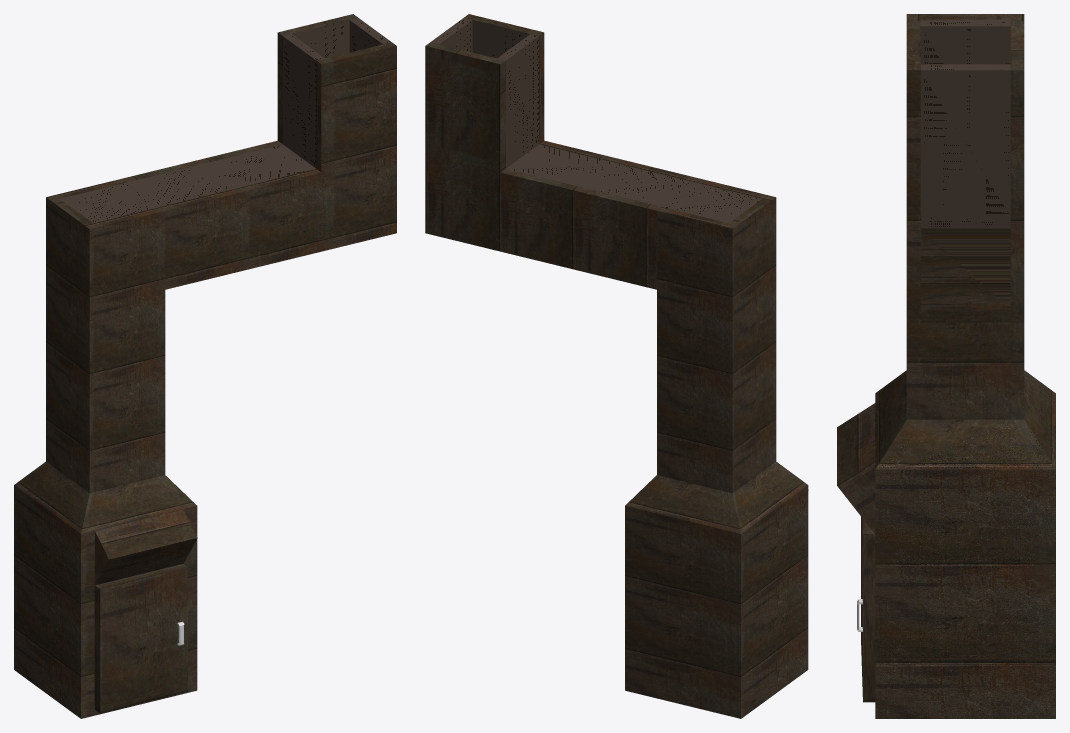
Rendered from packageTube.glb.
3 views of the same model, side by side, from view 1: azimuth 30°, elevation 25°; view 2: azimuth 150°, elevation 25°; view 3: azimuth 270°, elevation 25° (orthographic). The views are drawn at different scales.
Parts seen in each view (by area): view 1: Plane, Cube; view 2: Plane; view 3: Plane, Cube.
Boxes of the visible parts, x1,y1,x2,y2 form: Plane: (14,14,396,718); Cube: (94,564,187,713); Plane: (425,14,808,718); Plane: (837,14,1055,718); Cube: (861,517,875,702).
Size of the model in its own units: 8.67 by 14.78 by 3.72.
1 material, 1 textured.
